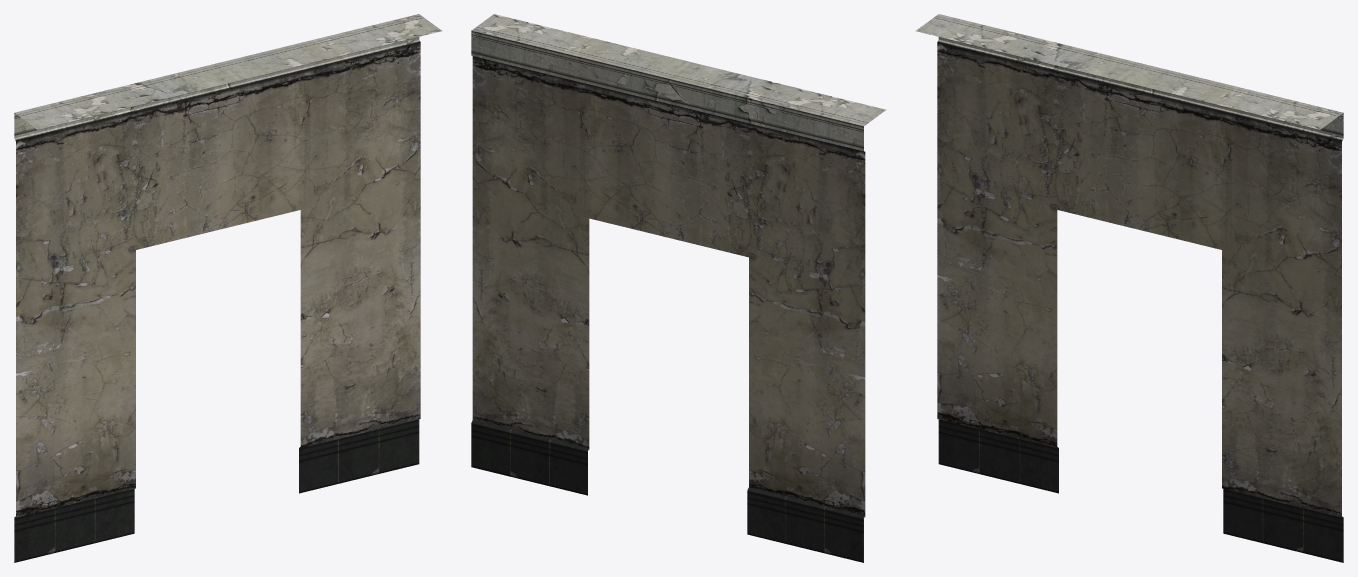
File: urban_damaged_doorway.dae
3 views of the same model, side by side, from view 1: azimuth 30°, elevation 25°; view 2: azimuth 150°, elevation 25°; view 3: azimuth 330°, elevation 25° (orthographic). The views are drawn at different scales.
Visible parts, largest first — view 1: plaster__4_, trims__4_; view 2: plaster__4_, trims__4_; view 3: plaster__4_, trims__4_.
Boxes of the visible parts, x1=… form: plaster__4_: x1=16, y1=42, x2=420, y2=517; trims__4_: x1=14, y1=14, x2=442, y2=562; plaster__4_: x1=472, y1=56, x2=865, y2=516; trims__4_: x1=471, y1=14, x2=886, y2=562; plaster__4_: x1=937, y1=42, x2=1341, y2=517; trims__4_: x1=915, y1=14, x2=1343, y2=562.
Bounding box in the file's own units: 4 × 4.25 × 0.4006.
